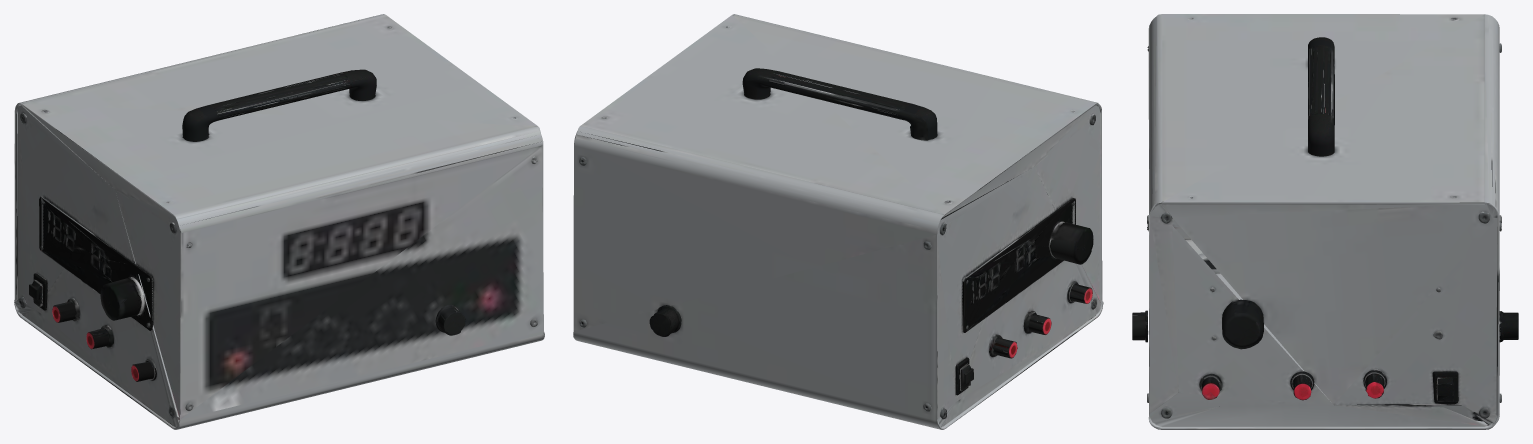
File: power-supply.glb
3 views of the same model, side by side, from view 1: azimuth 30°, elevation 25°; view 2: azimuth 150°, elevation 25°; view 3: azimuth 270°, elevation 25° (orthographic). The views are drawn at different scales.
Size of the model in its own units: 0.9546 by 0.5381 by 0.7222.
Materials: 1 (1 with a texture image).
